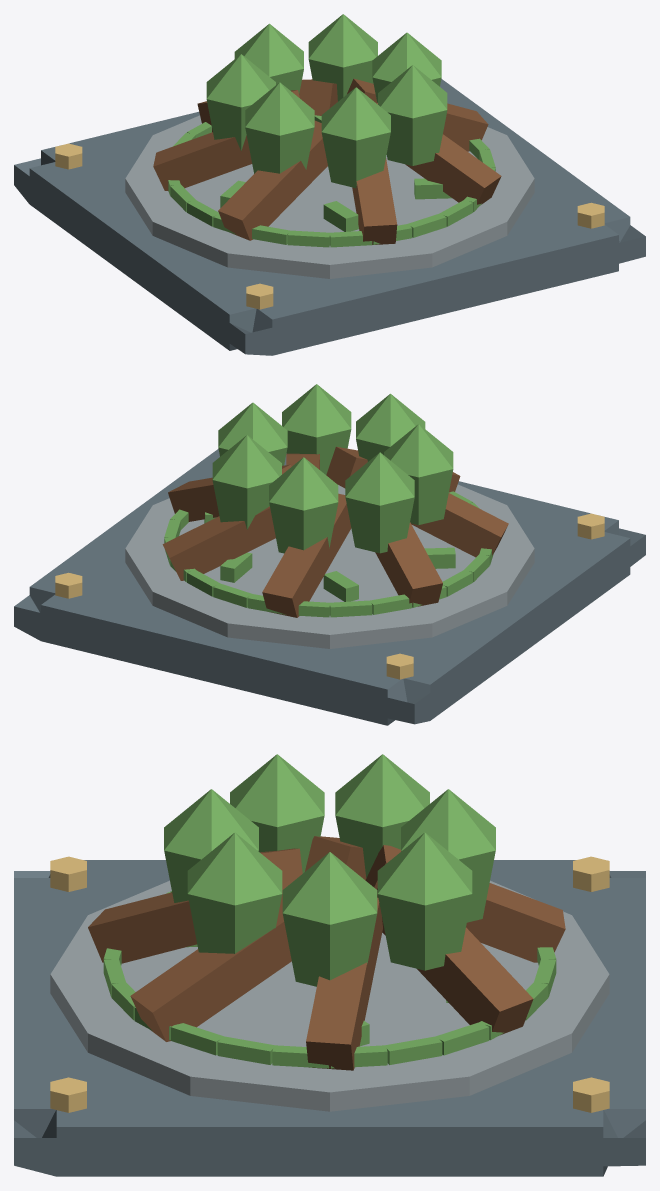
The model's file is TrapBlight.fbx.
3 views of the same model, one above another, from view 1: azimuth 30°, elevation 25°; view 2: azimuth 150°, elevation 25°; view 3: azimuth 270°, elevation 25° (orthographic). The views are drawn at different scales.
Parts seen in each view (by area): view 1: TrapBlight.002; view 2: TrapBlight.002; view 3: TrapBlight.002.
Part boxes in pixels (box(x1,y1,x2,y2)): TrapBlight.002: box(14, 14, 645, 355); TrapBlight.002: box(14, 384, 645, 725); TrapBlight.002: box(14, 754, 645, 1176).
Size of the model in its own units: 104 by 44 by 104.
